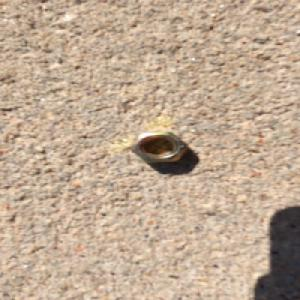Nut: (128, 130, 188, 165)
